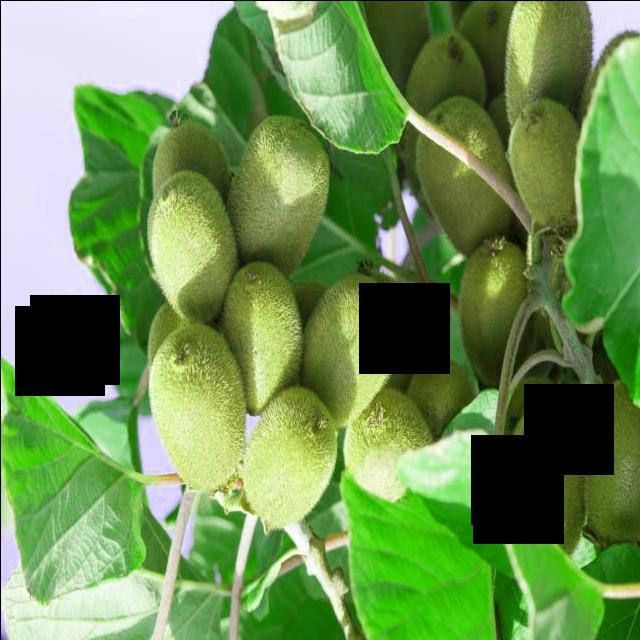kiwi: (227, 114, 330, 279), (417, 96, 516, 259), (150, 323, 242, 490), (307, 273, 400, 430), (147, 168, 239, 321), (244, 386, 337, 532), (402, 31, 489, 179), (223, 263, 304, 417), (510, 400, 587, 560), (506, 2, 595, 127), (344, 388, 434, 509), (461, 237, 534, 385), (510, 98, 587, 226), (587, 378, 640, 545), (153, 110, 232, 203), (405, 350, 477, 445)
